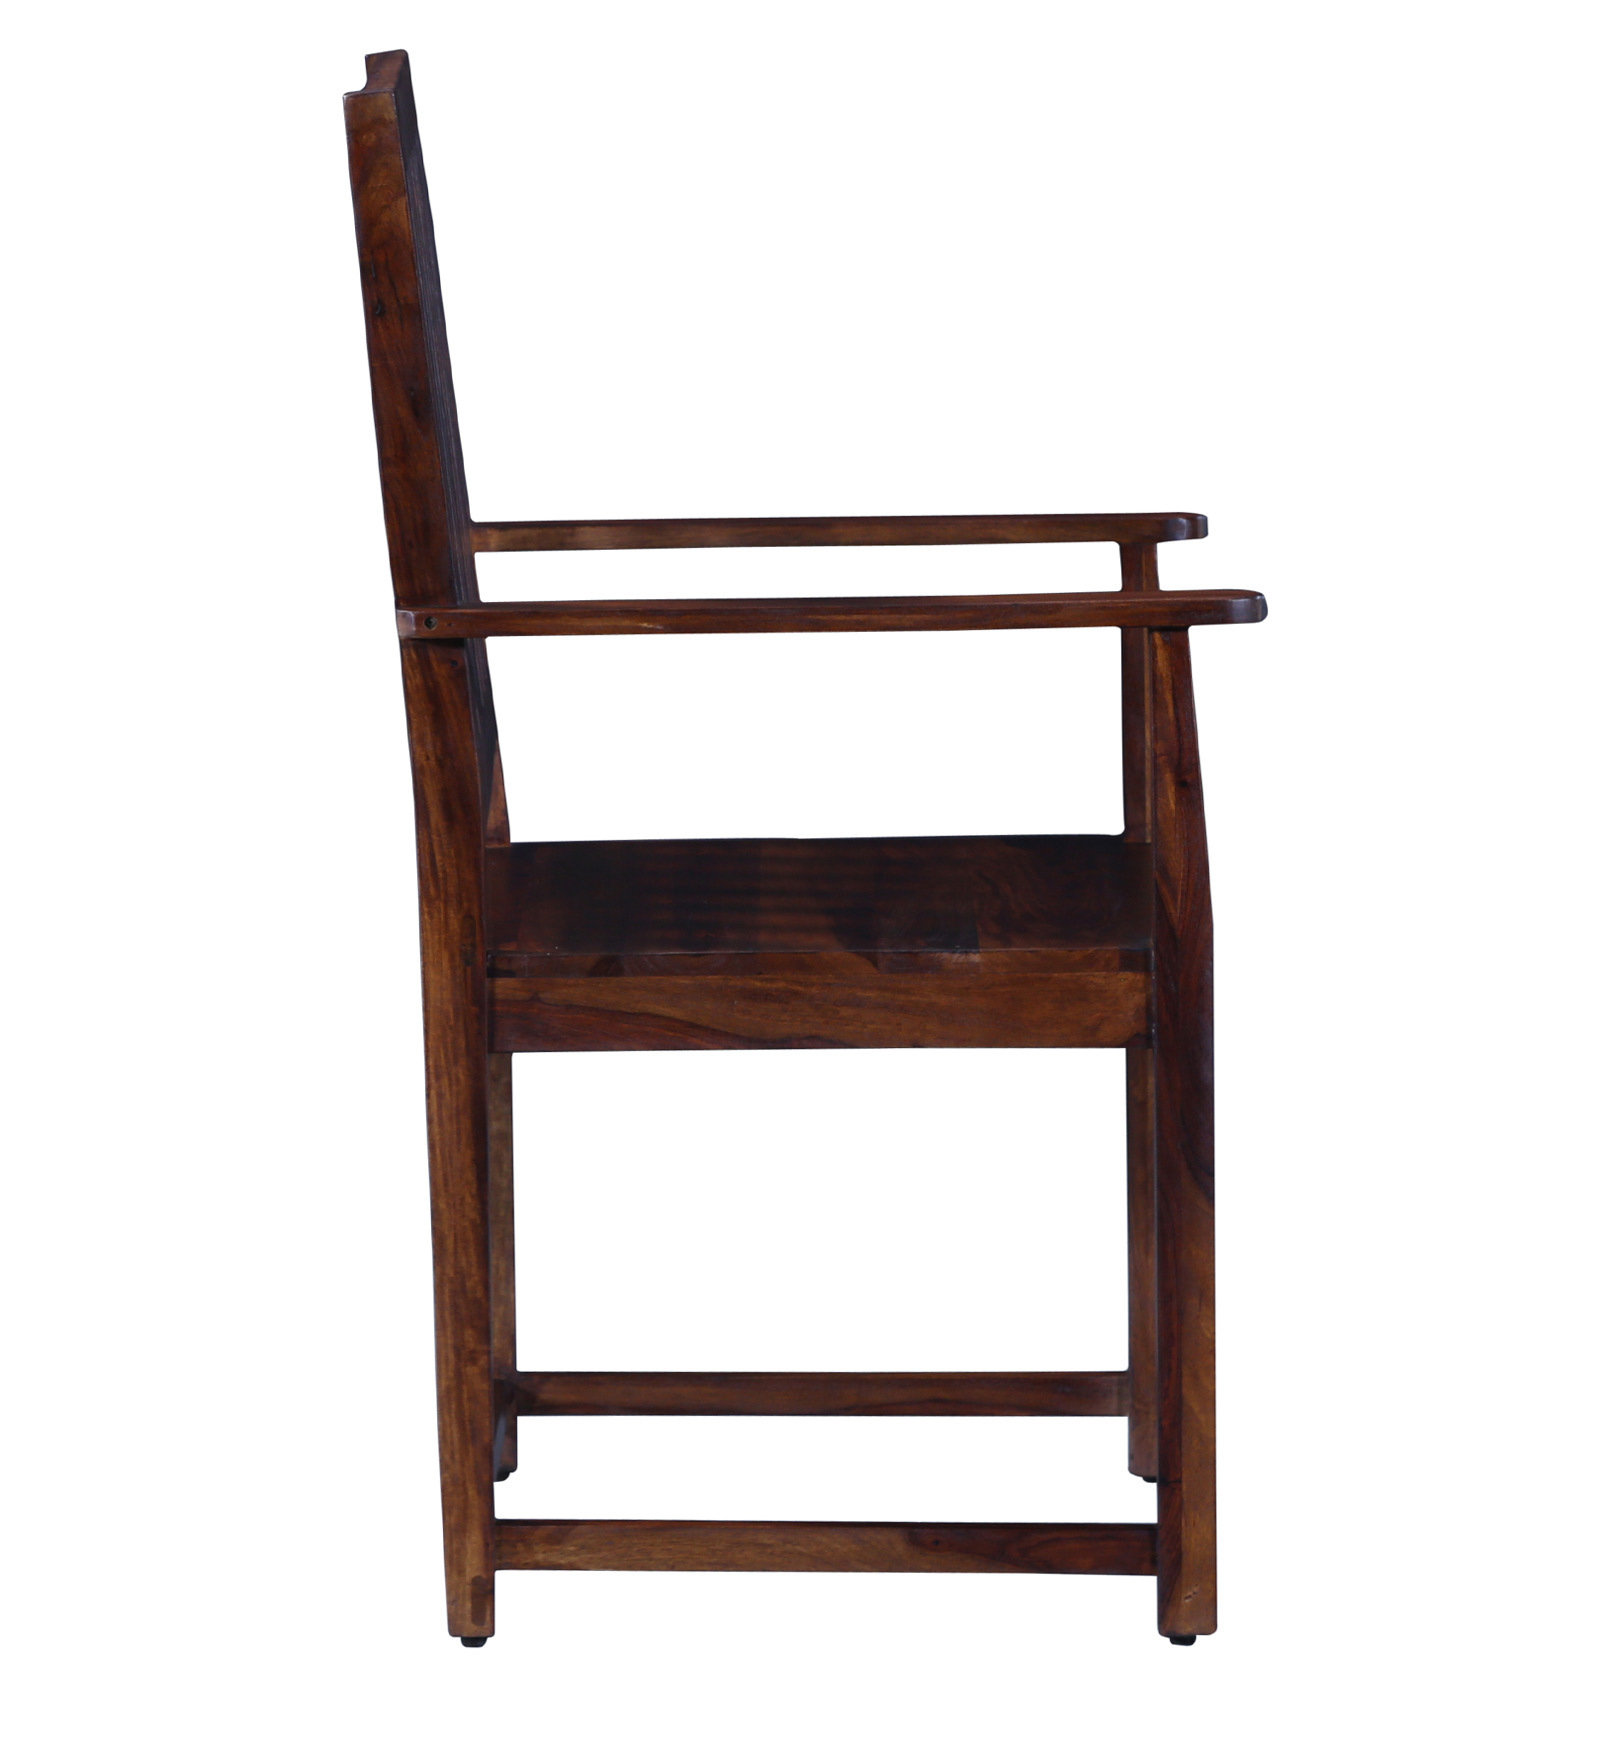Abbey Arm Chair in Honey Oak Finish by Woodsworth: (297, 44, 1252, 1670)
